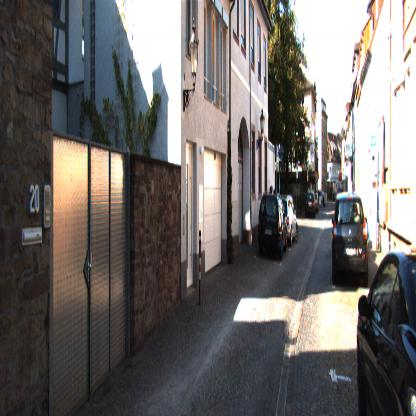car: (358, 251, 416, 416), (333, 195, 370, 287), (259, 196, 294, 255), (279, 197, 299, 247)
